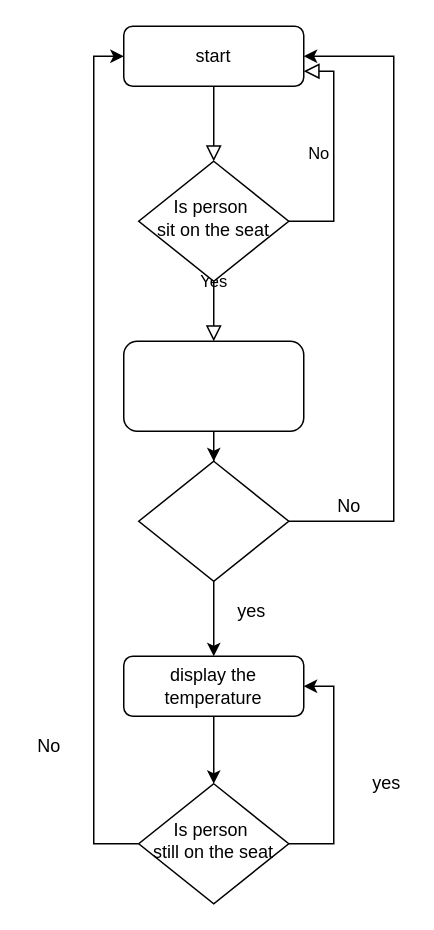
This 434x930 diagram has some shape labels left out. Each missing label, with the centre of its shape:
"change the temperature of the seat" belongs at point 213,385.
"still the person on the seat" belongs at point 213,520.
